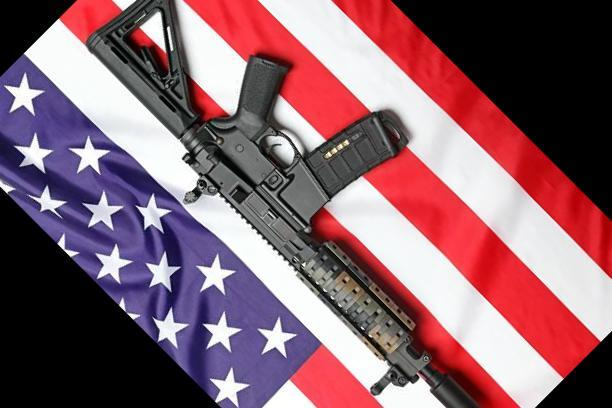larga: (86, 0, 479, 408)
